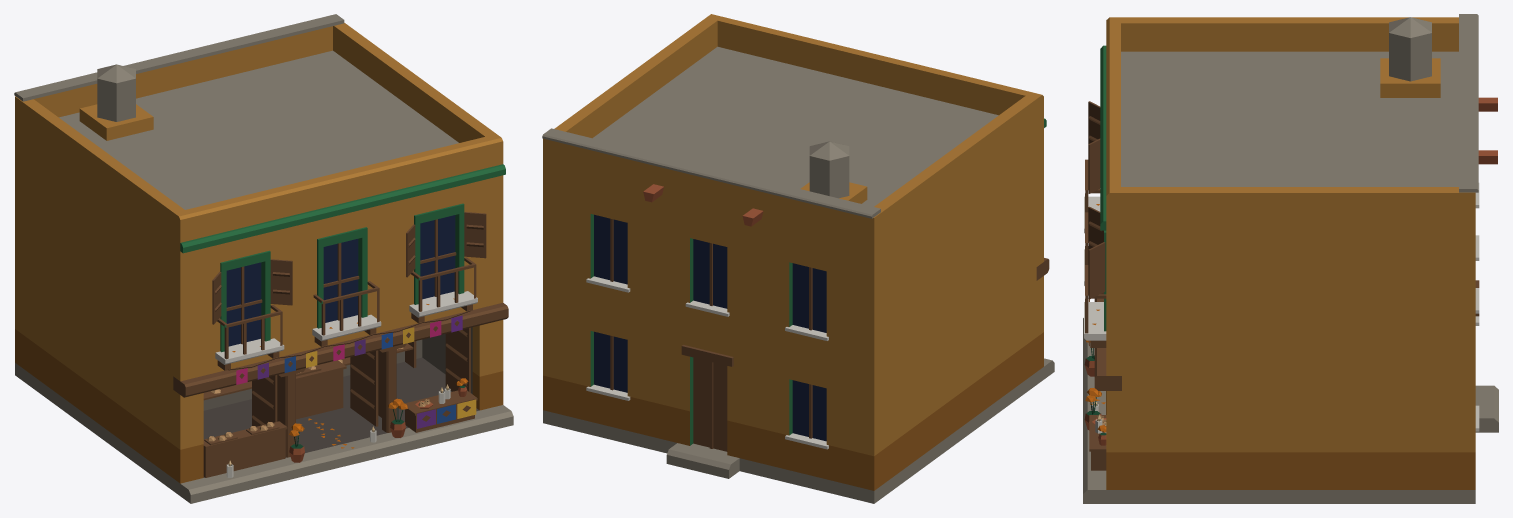
Rendered from shopfront-house-43d94d.glb.
3 views of the same model, side by side, from view 1: azimuth 30°, elevation 25°; view 2: azimuth 150°, elevation 25°; view 3: azimuth 270°, elevation 25° (orthographic). The views are drawn at different scales.
Visible parts, largest first — view 1: shopfront-house-43d94d; view 2: shopfront-house-43d94d; view 3: shopfront-house-43d94d.
Boxes of the visible parts, x1,y1,x2,y2 form: shopfront-house-43d94d: (14,14,513,503); shopfront-house-43d94d: (542,14,1054,503); shopfront-house-43d94d: (1083,14,1498,503).
Size of the model in its own units: 8 by 7.44 by 8.
